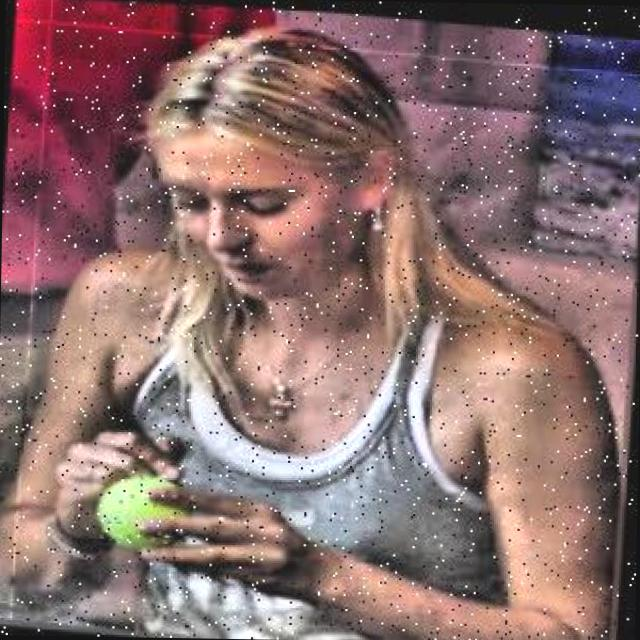Tennis Ball: (100, 472, 197, 551)
